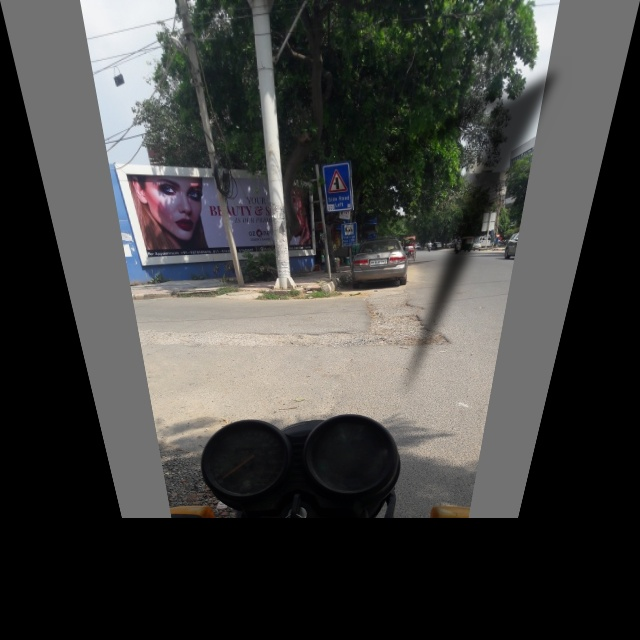Side_Road_Left: (325, 166, 353, 198)
